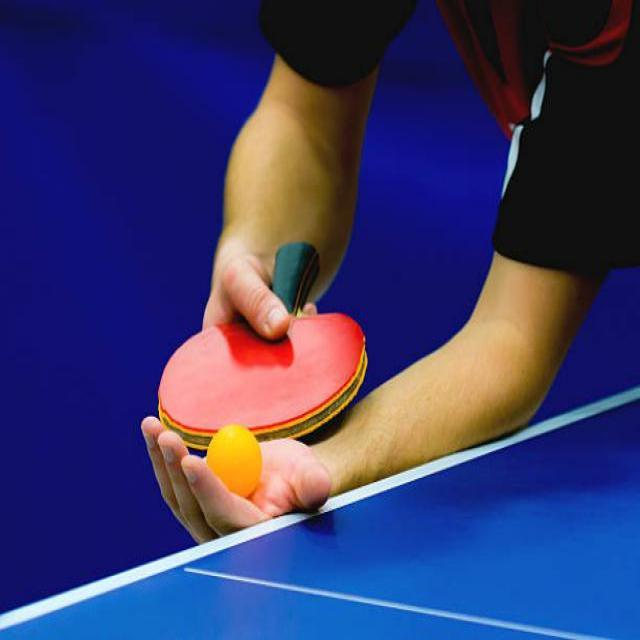oball: (206, 424, 262, 502)
